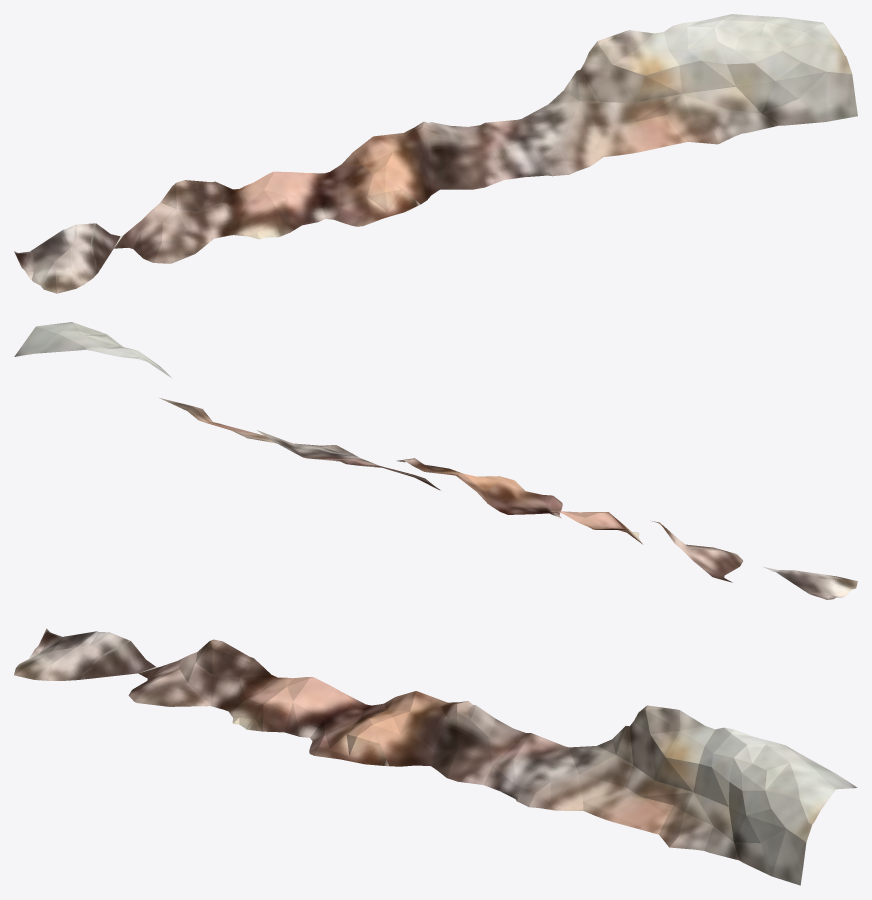
3 views of the same model, one above another, from view 1: azimuth 30°, elevation 25°; view 2: azimuth 150°, elevation 25°; view 3: azimuth 330°, elevation 25° (orthographic). The views are drawn at different scales.
Bounding box in the file's own units: 1.67 × 0.1778 × 0.205.
1 material, 1 textured.
